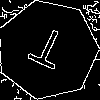T: (22, 25, 70, 79)
